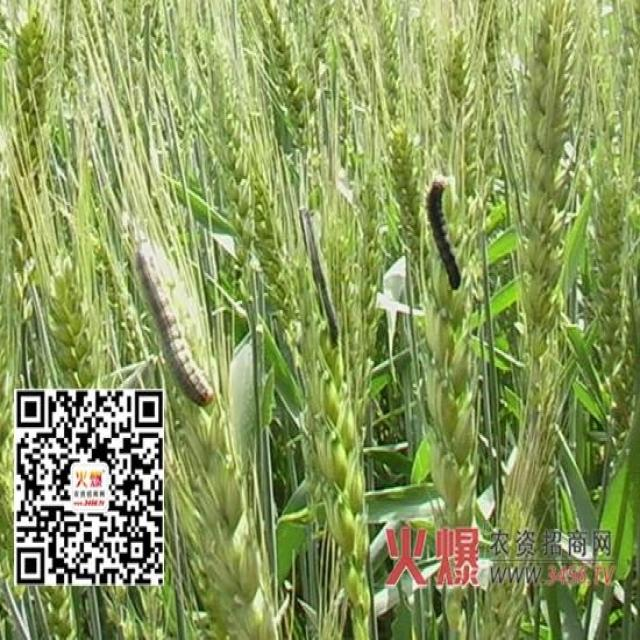army worm: (135, 240, 226, 413), (297, 206, 348, 348), (425, 177, 474, 297)
